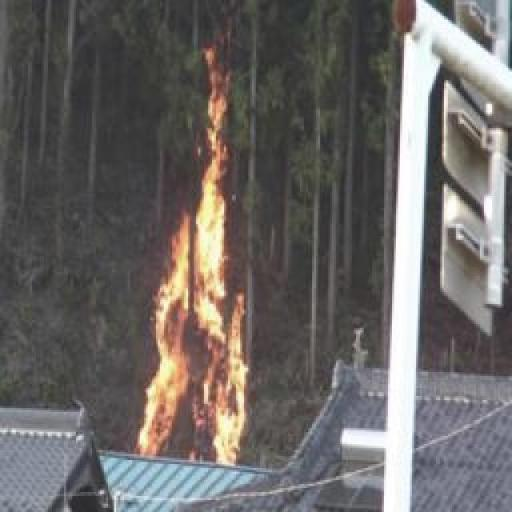smoke: (137, 66, 255, 469)
